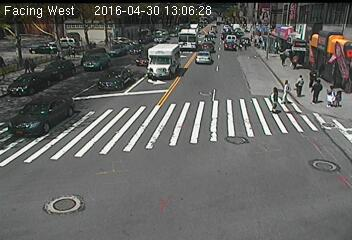pos: (267, 85, 287, 112)
